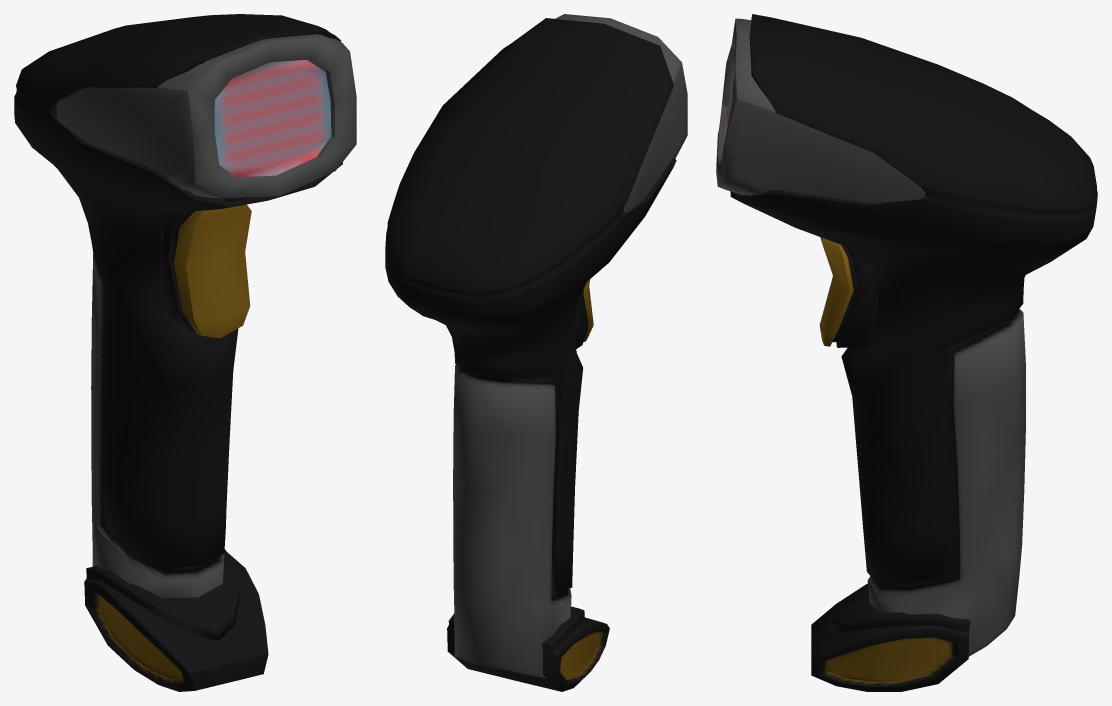
Rendered from scan.fbx.
3 views of the same model, side by side, from view 1: azimuth 30°, elevation 25°; view 2: azimuth 150°, elevation 25°; view 3: azimuth 270°, elevation 25° (orthographic). The views are drawn at different scales.
Parts seen in each view (by area): view 1: scan; view 2: scan; view 3: scan.
Part boxes in pixels (x1,y1,x2,y2): scan: [14, 14, 356, 691]; scan: [385, 14, 687, 691]; scan: [716, 14, 1097, 691].
Bounding box in the file's own units: 0.0889 × 0.2475 × 0.134.
1 material, 1 textured.
